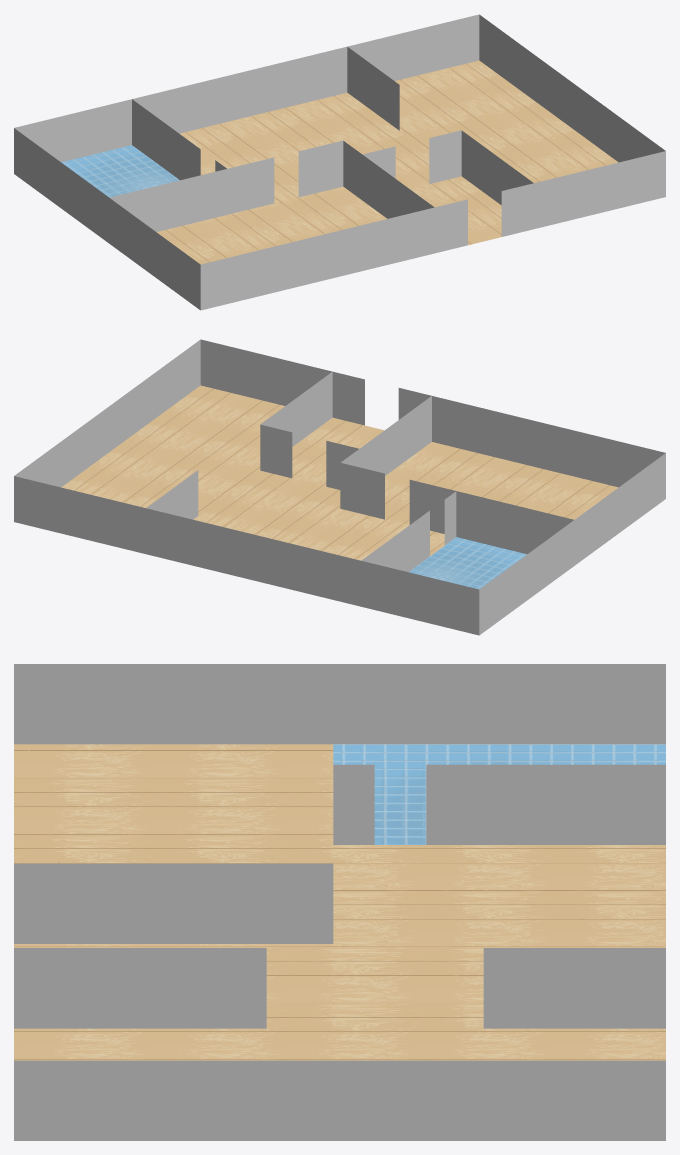
The picture shows the model from 3 angles, top to bottom: view 1: azimuth 30°, elevation 25°; view 2: azimuth 150°, elevation 25°; view 3: azimuth 270°, elevation 25°; orthographic projection. The views are drawn at different scales.
Visible parts, largest first — view 1: FgW, FgF; view 2: FgW, FgF; view 3: FgW, FgF.
Boxes of the visible parts, left/top/right/bottom form: FgW: left=14, top=14, right=665, bottom=310; FgF: left=61, top=60, right=618, bottom=264; FgW: left=14, top=339, right=665, bottom=635; FgF: left=61, top=385, right=618, bottom=589; FgW: left=14, top=664, right=665, bottom=1140; FgF: left=14, top=744, right=665, bottom=1060.
Size of the model in its own units: 2116 by 200 by 1470.
